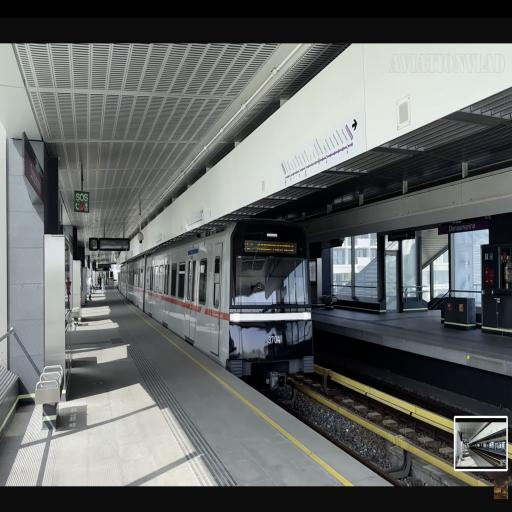X-Wagen: (119, 214, 313, 386)
